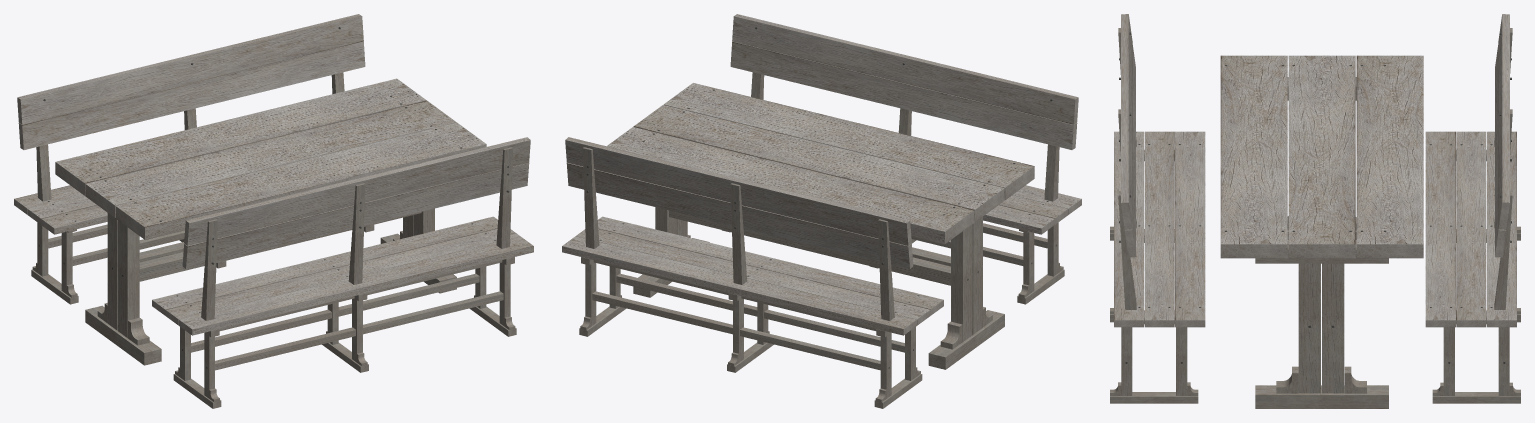
The model's file is Wooden Table and Chairs.FBX.
3 renders of one model, left to right at view 1: azimuth 30°, elevation 25°; view 2: azimuth 150°, elevation 25°; view 3: azimuth 270°, elevation 25°, orthographic. The views are drawn at different scales.
Parts seen in each view (by area): view 1: Tabletop, Back benches002, Back benches001, Seat001, Legs benches, Table leg, Legs benches001, Seat002; view 2: Tabletop, Back benches001, Back benches002, Seat002, Legs benches001, Table leg, Legs benches, Seat001; view 3: Tabletop, Seat002, Seat001, Table leg, Back benches001, Back benches002, Legs benches, Legs benches001.
Part boxes in pixels (<box>): Tabletop: <box>55,78,486,239</box>; Back benches002: <box>17,14,365,201</box>; Back benches001: <box>182,137,530,320</box>; Seat001: <box>152,216,533,335</box>; Legs benches: <box>173,257,516,408</box>; Table leg: <box>85,208,456,365</box>; Legs benches001: <box>31,222,374,304</box>; Seat002: <box>14,185,107,234</box>; Tabletop: <box>607,83,1034,244</box>; Back benches001: <box>730,14,1078,201</box>; Back benches002: <box>565,137,913,320</box>; Seat002: <box>562,216,943,335</box>; Legs benches001: <box>579,257,922,408</box>; Table leg: <box>633,207,1004,369</box>; Legs benches: <box>722,222,1064,304</box>; Seat001: <box>983,185,1081,234</box>; Tabletop: <box>1220,55,1423,258</box>; Seat002: <box>1425,131,1516,327</box>; Seat001: <box>1114,131,1205,327</box>; Table leg: <box>1255,77,1388,408</box>; Back benches001: <box>1118,14,1136,309</box>; Back benches002: <box>1494,14,1512,309</box>; Legs benches: <box>1110,149,1198,403</box>; Legs benches001: <box>1432,149,1520,403</box>.
Bounding box in the file's own units: 78.74 × 41.79 × 72.53.
